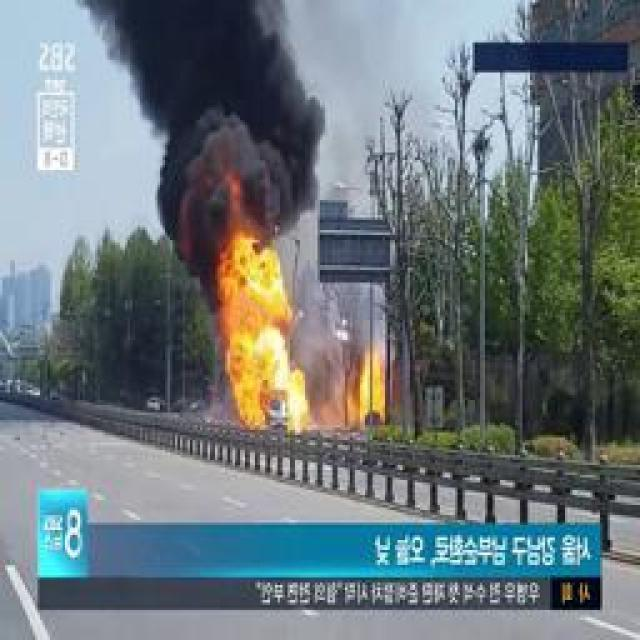Fire: (230, 267, 284, 408), (357, 375, 385, 417), (286, 380, 307, 428)
